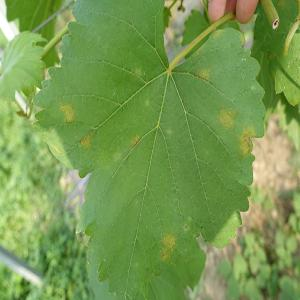Folha: (31, 0, 266, 298)
Fungo: (237, 124, 257, 158), (217, 104, 237, 132), (160, 230, 176, 261), (78, 128, 96, 150), (59, 100, 75, 123), (194, 65, 211, 82), (182, 215, 194, 234), (130, 134, 140, 150), (133, 64, 143, 80), (112, 149, 122, 163), (144, 94, 152, 111), (166, 123, 173, 139)
